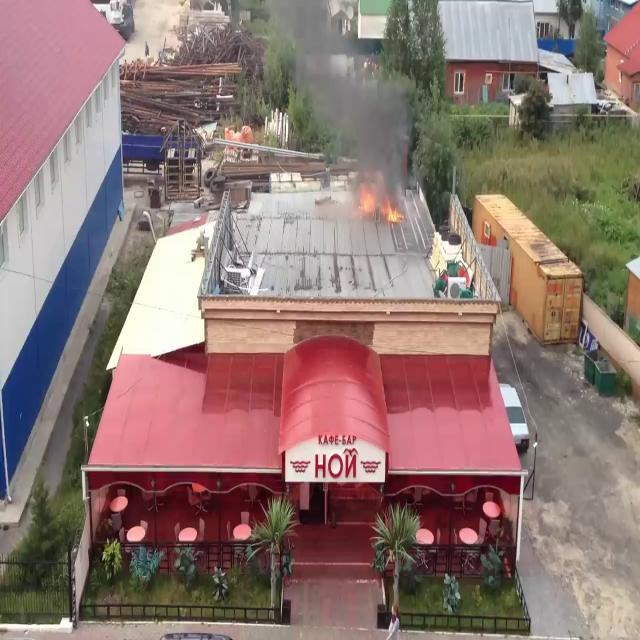Fire: (358, 186, 404, 223)
Smoke: (269, 2, 416, 201)
